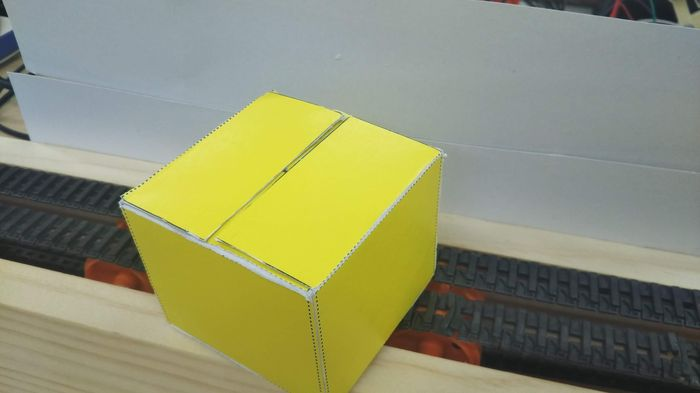box4: (114, 88, 440, 393)
